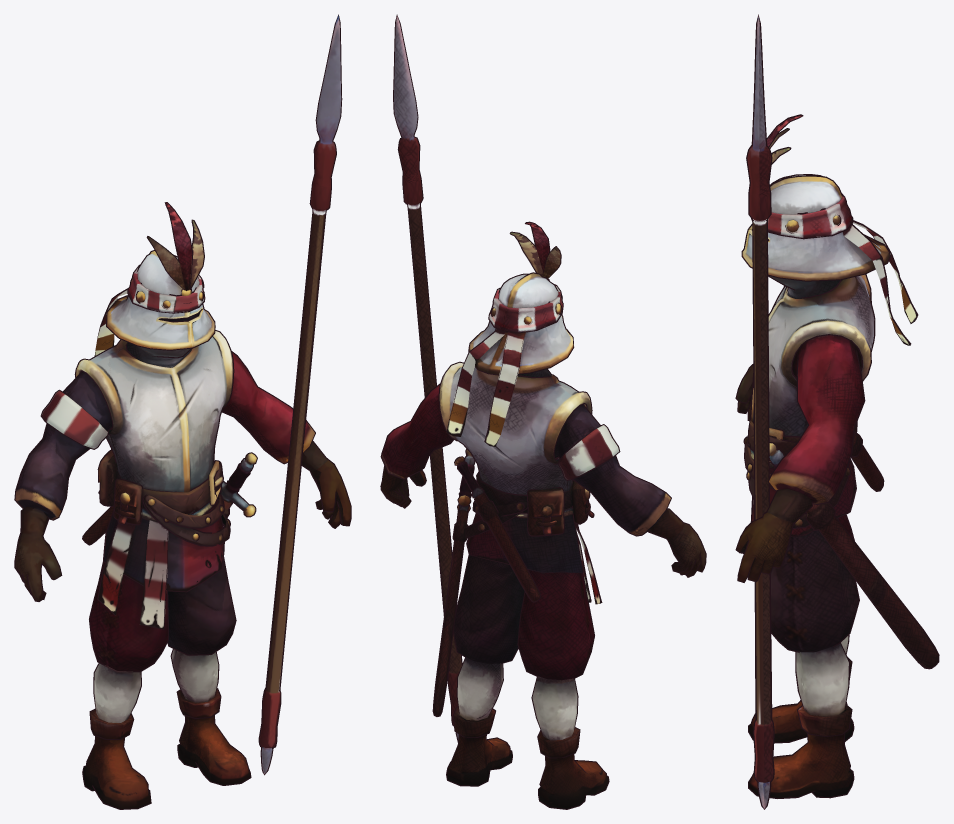
Rendered from knight.glb.
3 renders of one model, left to right at view 1: azimuth 30°, elevation 25°; view 2: azimuth 150°, elevation 25°; view 3: azimuth 270°, elevation 25°, orthographic. The views are drawn at different scales.
Parts seen in each view (by area): view 1: armor, armor_cell; view 2: armor, armor_cell; view 3: armor, armor_cell.
Part boxes in pixels (x1=…): armor: x1=15, y1=15, x2=350, y2=808; armor_cell: x1=14, y1=14, x2=351, y2=809; armor: x1=381, y1=15, x2=705, y2=808; armor_cell: x1=380, y1=14, x2=706, y2=809; armor: x1=736, y1=15, x2=938, y2=808; armor_cell: x1=735, y1=14, x2=939, y2=809.
Size of the model in its own units: 9.62 by 21.21 by 4.7.
2 materials, 1 textured.
